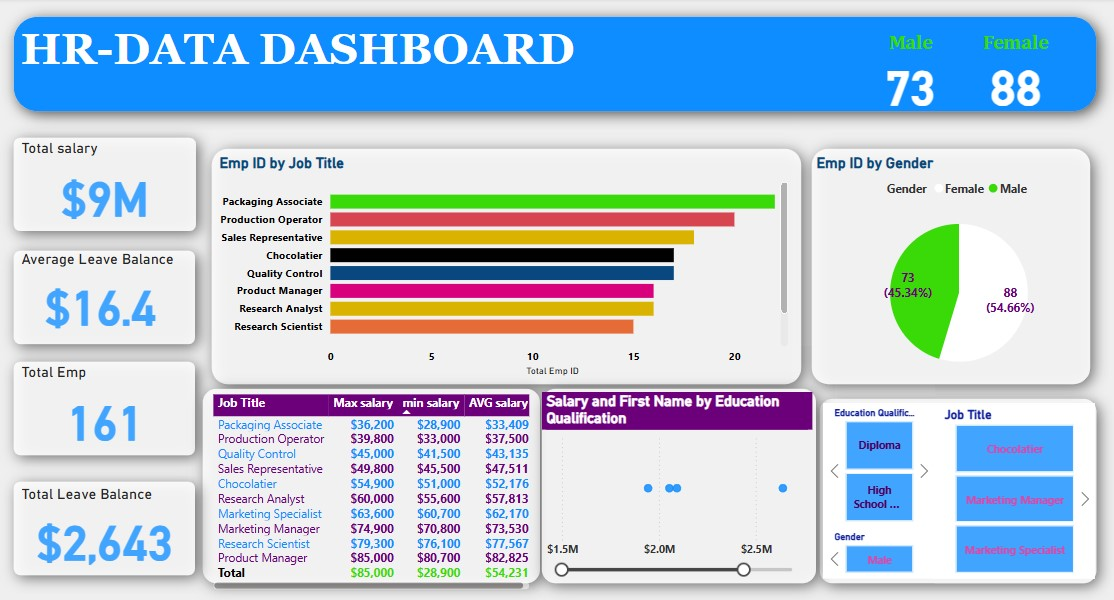

The page's visual inventory and layout, read from the dashboard file:
{"tool":"powerbi","page":{"name":"Page 1","canvas":[1280,720],"ordinal":0},"visuals":[{"type":"shape","box":[0,0,1280,150.9],"z":0},{"type":"shape","box":[0,138.3,251.4,149.7],"z":1000},{"type":"shape","box":[0,267.4,250.3,149.7],"z":2000},{"type":"shape","box":[0,394.3,250.3,149.7],"z":3000},{"type":"shape","box":[226.3,150.9,716.6,312],"z":4000},{"type":"shape","box":[921.1,436.6,358.9,253.7],"z":5000},{"type":"shape","box":[216,425.1,428.6,265.1],"z":6000},{"type":"shape","box":[603.4,425.1,356.6,265.1],"z":7000},{"type":"shape","box":[912,150.9,361.1,312],"z":8000},{"type":"card","title":"Total Emp","fields":{"Values":["New measures.Total Emp"]},"box":[25.1,417.1,201.1,106.3],"z":9000},{"type":"card","title":"Average Leave Balance","fields":{"Values":["New measures.Leave Balance"]},"box":[25.1,288,190.9,100.6],"z":10000},{"type":"card","title":"Total salary","fields":{"Values":["data.Salary"]},"box":[25.1,161.1,201.1,106.3],"z":11000},{"type":"clusteredBarChart","title":" Emp ID by Job Title","fields":{"Category":["data.Job Title"],"Y":["New measures.Total Emp ID"]},"box":[251.4,178.3,660.6,258.3],"z":12000},{"type":"shape","box":[0,531.4,250.3,149.7],"z":13000},{"type":"card","title":"Male","fields":{"Values":["data.Male Gender count"]},"box":[980.6,36.6,131.4,92.6],"z":14000},{"type":"card","title":"Female","fields":{"Values":["data.FeMale Gender count"]},"box":[1112,36.6,108.6,92.6],"z":15000},{"type":"pieChart","title":"Emp ID by Gender","fields":{"Category":["data.Gender"],"Y":["New measures.Total Emp ID"]},"box":[933.7,178.3,336,269.7],"z":16000},{"type":"pivotTable","fields":{"Values":["New measures.Max salary","New measures.min salary","New measures.AVG salary"],"Rows":["data.Job Title"]},"box":[244.6,448,371.4,233.1],"z":17000},{"type":"scatterChart","title":" Salary and First Name by Education Qualification","fields":{"Category":["data.Education Qualification"],"X":["data.Salary"]},"box":[625.1,450.3,308.6,213.7],"z":18000},{"type":"card","title":"Total Leave Balance","fields":{"Values":["New measures.sum of leave ba"]},"box":[25.1,556.6,201.1,100.6],"z":19000},{"type":"slicer","fields":{"Values":["data.Education Qualification"]},"box":[946.3,462.9,126.9,141.7],"z":20000},{"type":"slicer","fields":{"Values":["data.Gender"]},"box":[946.3,604.6,126.9,59.4],"z":21000},{"type":"slicer","fields":{"Values":["data.Job Title"]},"box":[1072,462.9,185.1,201.1],"z":22000}]}

Visuals, with their boxes on the page's 1280x720 design canvas (x1, y1, x2, y2). These are canvas units, not pixel positions in the 1114x600 screenshot, which may show the page scaled, cropped or inside an application window:
shape: Rect(0, 0, 1280, 151)
shape: Rect(0, 138, 251, 288)
shape: Rect(0, 267, 250, 417)
shape: Rect(0, 394, 250, 544)
shape: Rect(226, 151, 943, 463)
shape: Rect(921, 437, 1280, 690)
shape: Rect(216, 425, 645, 690)
shape: Rect(603, 425, 960, 690)
shape: Rect(912, 151, 1273, 463)
"Total Emp" card: Rect(25, 417, 226, 523)
"Average Leave Balance" card: Rect(25, 288, 216, 389)
"Total salary" card: Rect(25, 161, 226, 267)
" Emp ID by Job Title" clusteredBarChart: Rect(251, 178, 912, 437)
shape: Rect(0, 531, 250, 681)
"Male" card: Rect(981, 37, 1112, 129)
"Female" card: Rect(1112, 37, 1221, 129)
"Emp ID by Gender" pieChart: Rect(934, 178, 1270, 448)
pivotTable - New measures.Max salary x New measures.min salary: Rect(245, 448, 616, 681)
" Salary and First Name by Education Qualification" scatterChart: Rect(625, 450, 934, 664)
"Total Leave Balance" card: Rect(25, 557, 226, 657)
slicer - data.Education Qualification: Rect(946, 463, 1073, 605)
slicer - data.Gender: Rect(946, 605, 1073, 664)
slicer - data.Job Title: Rect(1072, 463, 1257, 664)
